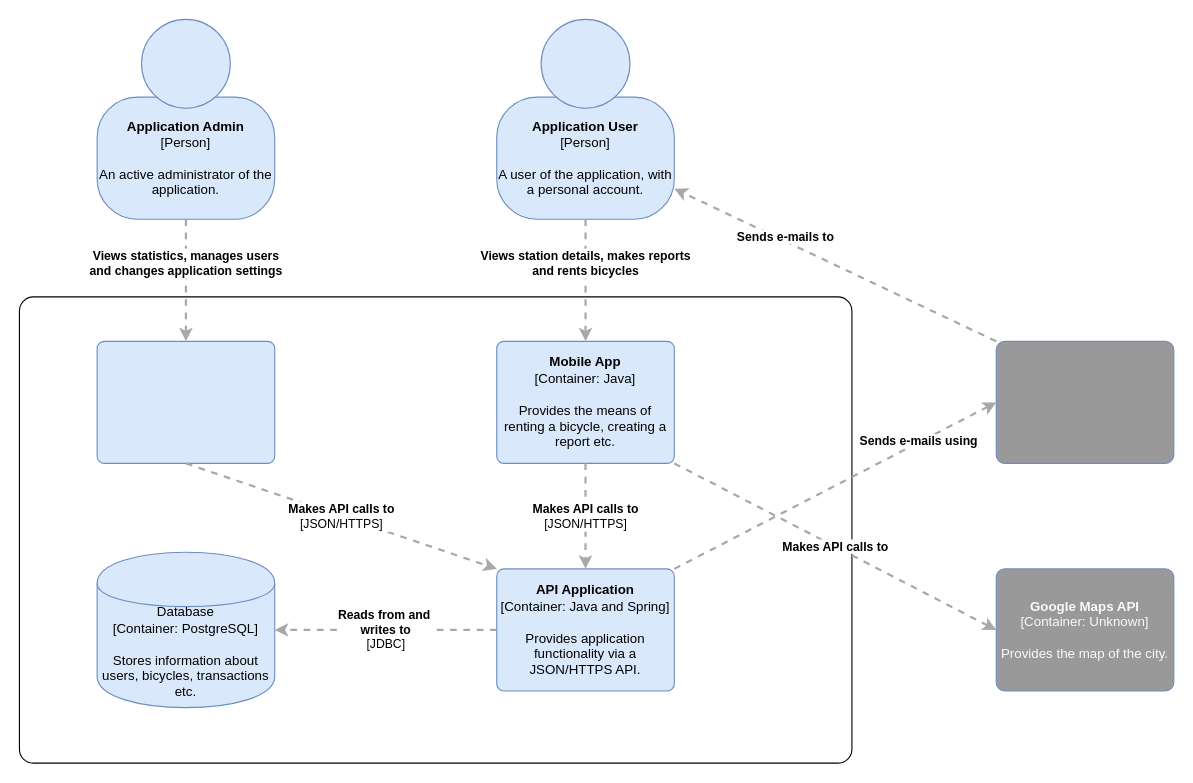
Some shapes in this 1193 by 783 pixel diagram are drawn without their labels. The shapes that lost their labels are listed below. From the top down, each one's box as (x1, y1, x2, y2) in pixels, then its label:
(96, 340, 275, 463): Desktop Application [Container: JavaFX ] Provides the means of administration.
(995, 340, 1174, 463): E-mail System [Software System] The e-mail system.
(18, 296, 852, 763): Application System [Software System]
